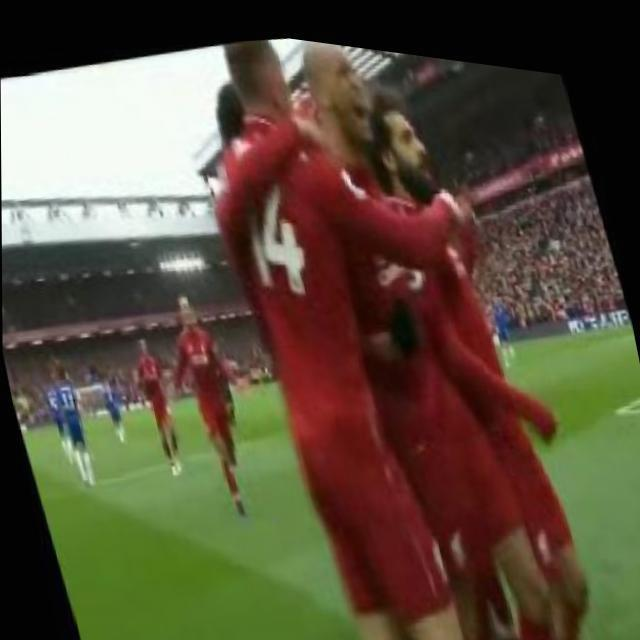fight: (177, 19, 588, 640)
